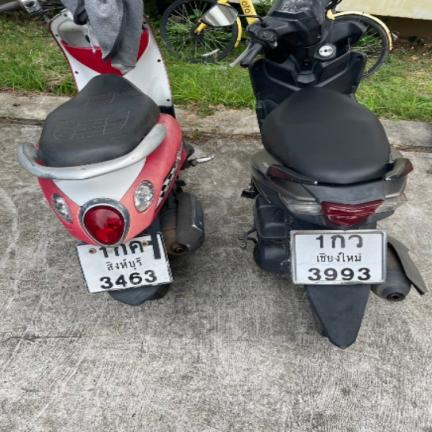1: (96, 245, 111, 259), (313, 235, 325, 249)
3: (141, 267, 162, 284), (95, 274, 115, 290), (355, 266, 372, 281), (306, 267, 321, 281)
4: (112, 273, 131, 288)
6: (128, 270, 147, 287)
9: (338, 267, 355, 280), (323, 267, 337, 281)
A01: (113, 242, 131, 257), (329, 234, 346, 248)
A04: (127, 238, 147, 255)
A37: (348, 234, 364, 248)
CMI: (313, 250, 362, 262)
SRI: (100, 254, 149, 274)
